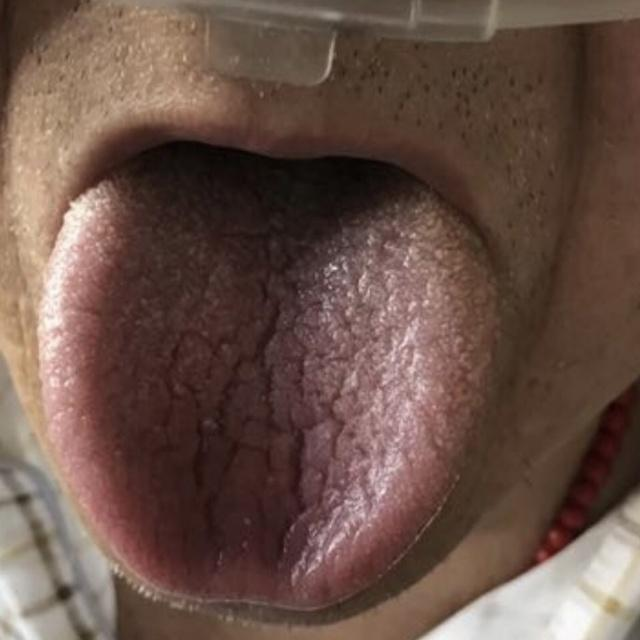liewenshe: (165, 294, 354, 568)
pangdashe: (37, 168, 500, 612)
